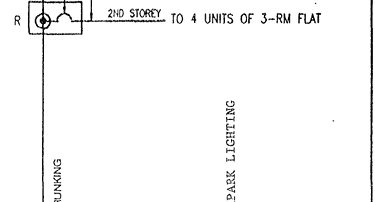Single Phase Tap-Off Unit: (26, 0, 84, 41)
